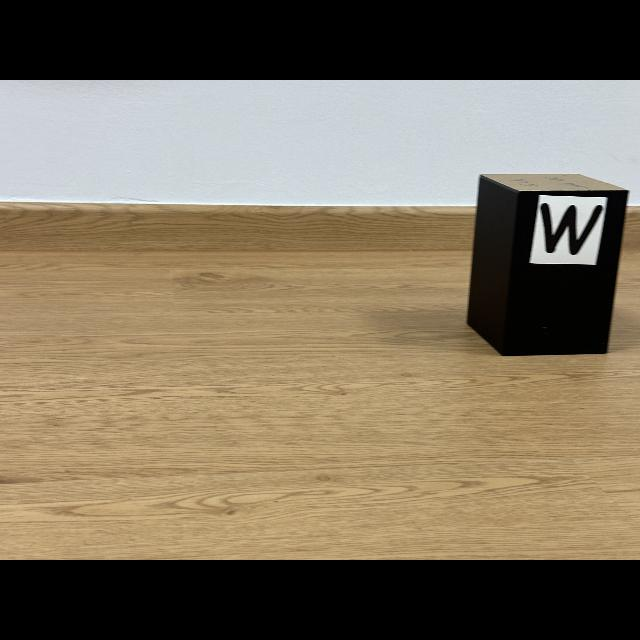W: (541, 204, 602, 255)
